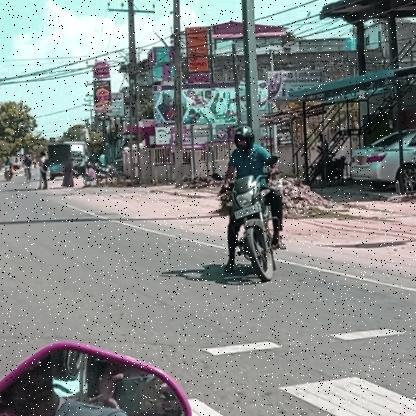motorcycle: (216, 174, 292, 285)
